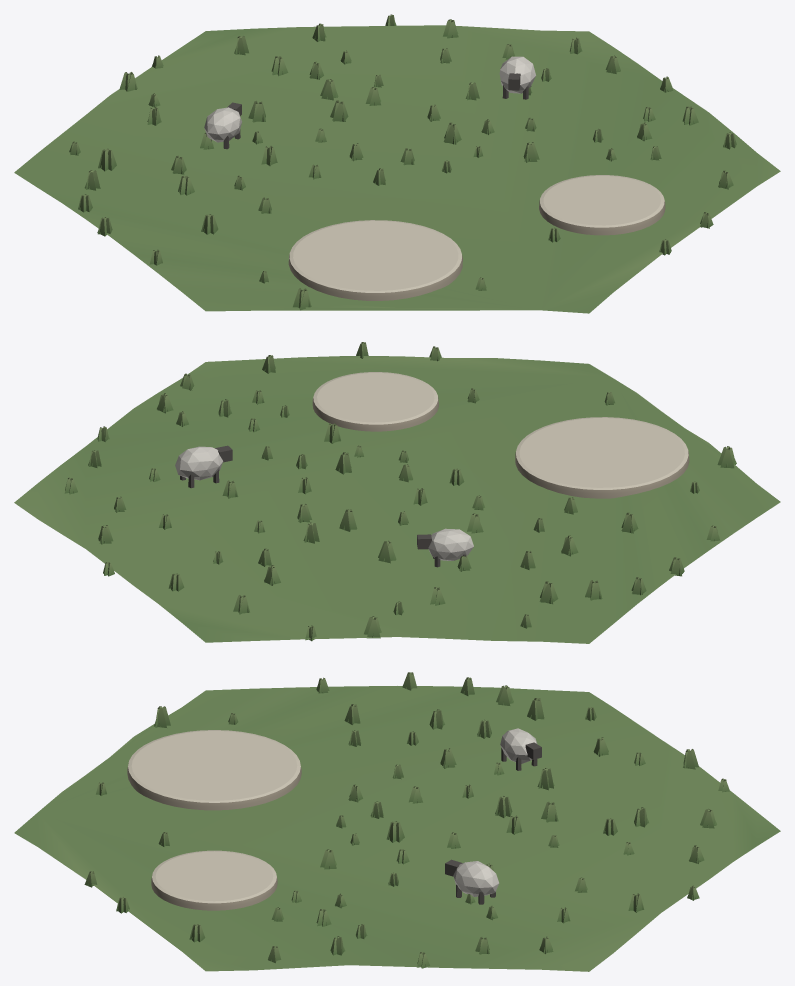
The model's file is terrain_pasture.glb.
The picture shows the model from 3 angles, top to bottom: view 1: azimuth 30°, elevation 25°; view 2: azimuth 150°, elevation 25°; view 3: azimuth 270°, elevation 25°; orthographic projection.
Parts seen in each view (by area): view 1: pasture_ground, pad_token_pasture, pad_robber_pasture, sheep_0, sheep_2; view 2: pasture_ground, pad_token_pasture, pad_robber_pasture, sheep_2, sheep_0; view 3: pasture_ground, pad_token_pasture, pad_robber_pasture, sheep_2, sheep_0.
Boxes of the visible parts, x1,y1,x2,y2 form: pasture_ground: [14, 25, 780, 313]; pad_token_pasture: [288, 220, 462, 300]; pad_robber_pasture: [539, 175, 665, 235]; sheep_0: [204, 102, 241, 149]; sheep_2: [499, 56, 535, 99]; pasture_ground: [14, 356, 780, 643]; pad_token_pasture: [515, 417, 689, 498]; pad_robber_pasture: [312, 372, 438, 431]; sheep_2: [175, 445, 232, 488]; sheep_0: [417, 528, 473, 567]; pasture_ground: [14, 686, 780, 971]; pad_token_pasture: [127, 730, 301, 810]; pad_robber_pasture: [151, 850, 277, 910]; sheep_2: [445, 859, 499, 904]; sheep_0: [500, 728, 541, 770].
Bounding box in the file's own units: 1.54 × 0.1339 × 1.76.
